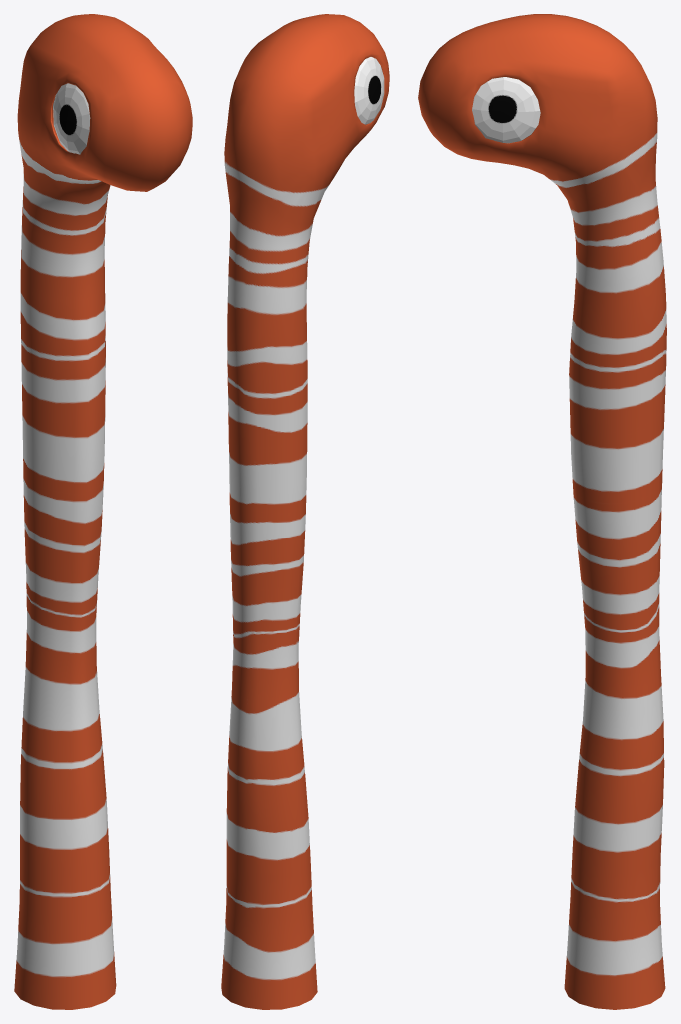
File: chinanago_model_GEO_ver01.fbx
3 renders of one model, left to right at view 1: azimuth 30°, elevation 25°; view 2: azimuth 150°, elevation 25°; view 3: azimuth 270°, elevation 25°, orthographic. The views are drawn at different scales.
Parts seen in each view (by area): view 1: body_GEO, R_eyeball_GEO; view 2: body_GEO, R_eyeball_GEO; view 3: body_GEO, L_eyeball_GEO.
Boxes of the visible parts, x1,y1,x2,y2 form: body_GEO: (14,14,192,1009); R_eyeball_GEO: (53,83,90,154); body_GEO: (221,14,389,1009); R_eyeball_GEO: (354,57,384,124); body_GEO: (418,14,666,1009); L_eyeball_GEO: (472,77,540,143).
Size of the model in its own units: 4.68 by 39.24 by 9.13.
Materials: 1 (1 with a texture image).
